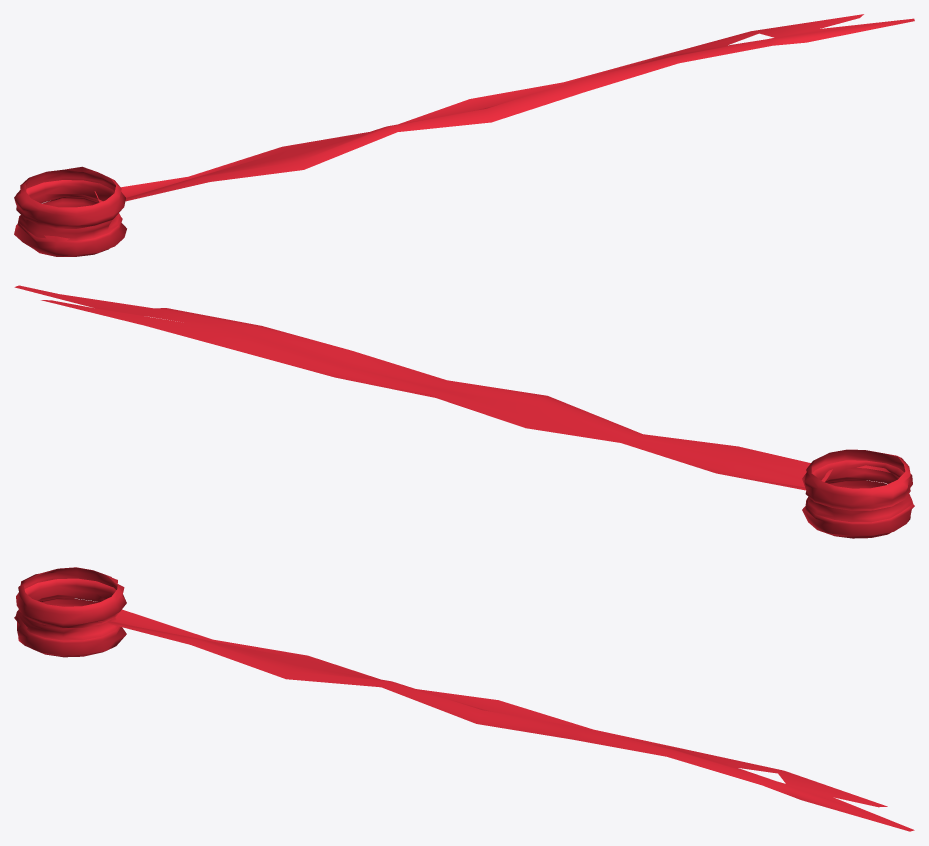
The model's file is PoleCloth.glb.
3 renders of one model, top to bottom at view 1: azimuth 30°, elevation 25°; view 2: azimuth 150°, elevation 25°; view 3: azimuth 330°, elevation 25°, orthographic.
Visible parts, largest first — view 1: Plane, Circle.001; view 2: Plane, Circle.001; view 3: Plane, Circle.001.
Boxes of the visible parts, box(x1,y1,x2,y2) form: Plane: box(94, 14, 914, 202); Circle.001: box(14, 166, 126, 256); Plane: box(14, 285, 832, 490); Circle.001: box(802, 449, 914, 538); Plane: box(98, 609, 914, 831); Circle.001: box(14, 567, 126, 657).
Size of the model in its own units: 9.01 by 0.4986 by 1.
